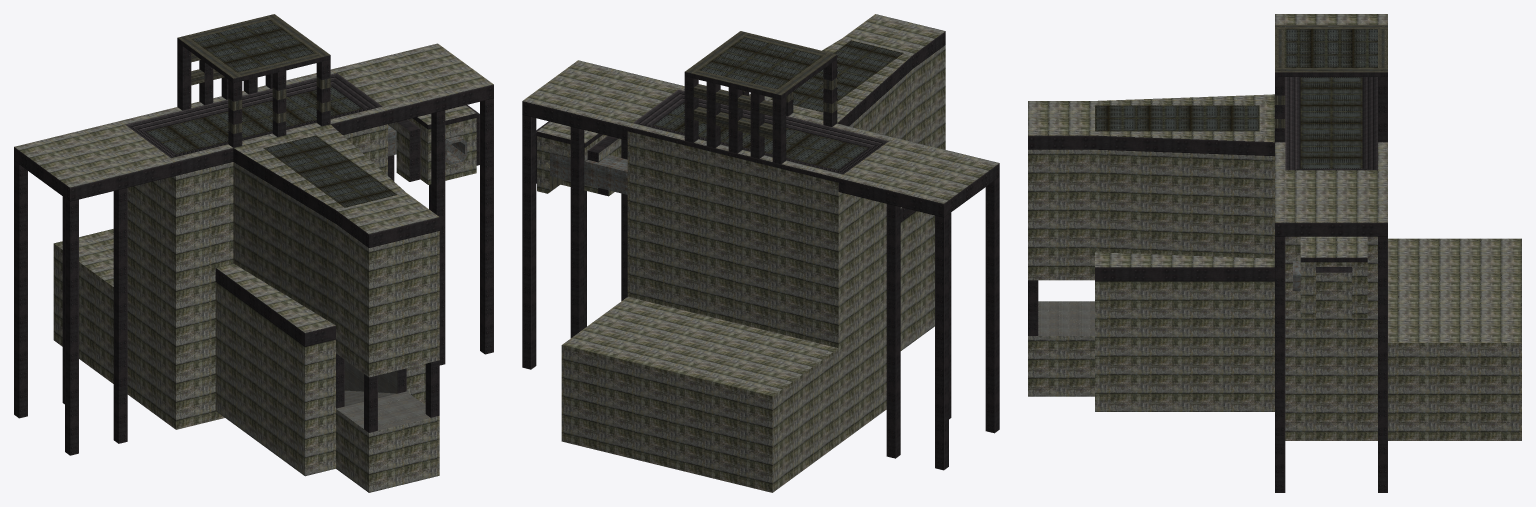
The model's file is elegiacbase.fbx.
The picture shows the model from 3 angles, left to right: view 1: azimuth 30°, elevation 25°; view 2: azimuth 150°, elevation 25°; view 3: azimuth 270°, elevation 25°; orthographic projection.
Parts seen in each view (by area): view 1: Object; view 2: Object; view 3: Object.
Part boxes in pixels (x1,y1,x2,y2): Object: (14, 14, 493, 492); Object: (522, 14, 999, 492); Object: (1028, 14, 1521, 492).
Bounding box in the file's own units: 19500 × 14600 × 19200.
